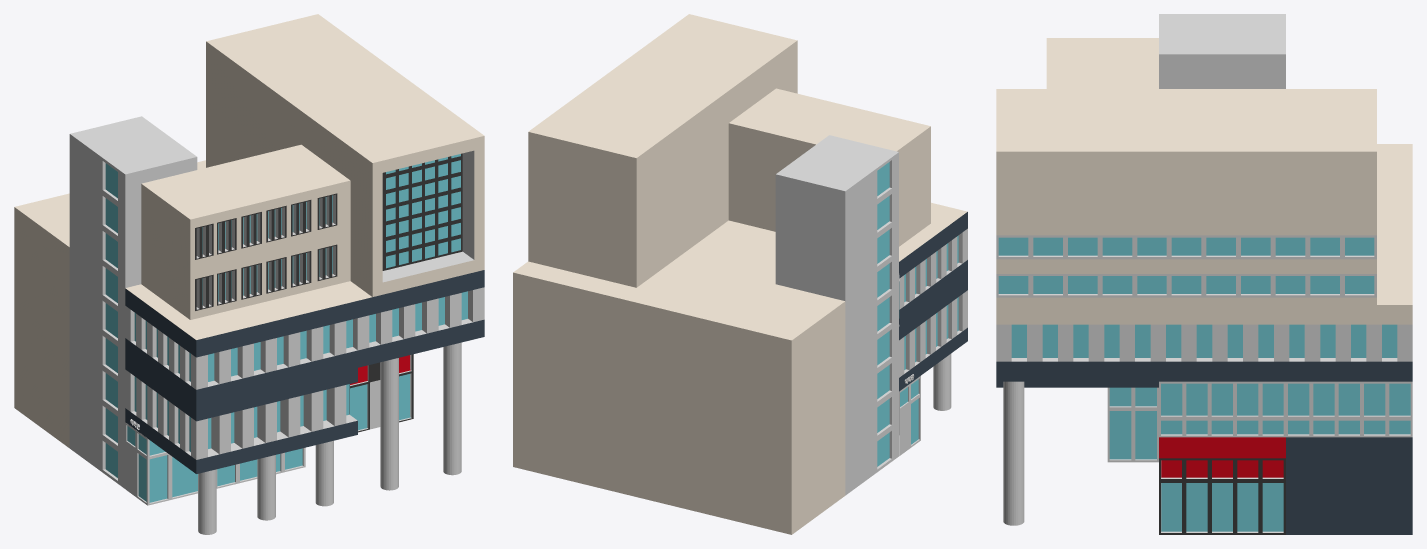
3 renders of one model, left to right at view 1: azimuth 30°, elevation 25°; view 2: azimuth 150°, elevation 25°; view 3: azimuth 270°, elevation 25°, orthographic. The views are drawn at different scales.
Visible parts, largest first — view 1: H, 실린더.004, 실린더.003, 실린더, 실린더.001, 실린더.002; view 2: H, 실린더.002; view 3: H, 실린더.004.
Part boxes in pixels (left/top/right/bottom): H: left=14, top=14, right=484, bottom=505; 실린더.004: left=443, top=342, right=461, bottom=475; 실린더.003: left=380, top=358, right=398, bottom=490; 실린더: left=315, top=440, right=333, bottom=506; 실린더.001: left=257, top=455, right=275, bottom=520; 실린더.002: left=198, top=469, right=216, bottom=534; H: left=513, top=14, right=967, bottom=534; 실린더.002: left=933, top=354, right=951, bottom=410; H: left=996, top=14, right=1412, bottom=534; 실린더.004: left=1003, top=381, right=1024, bottom=525.
Size of the model in its own units: 9034 by 10000 by 9846.
